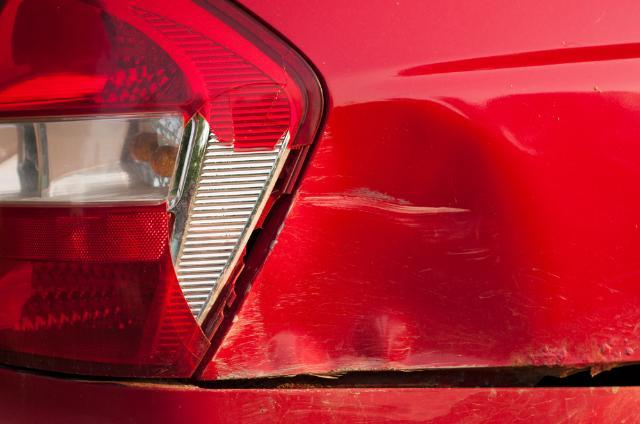dent: (201, 95, 534, 380)
